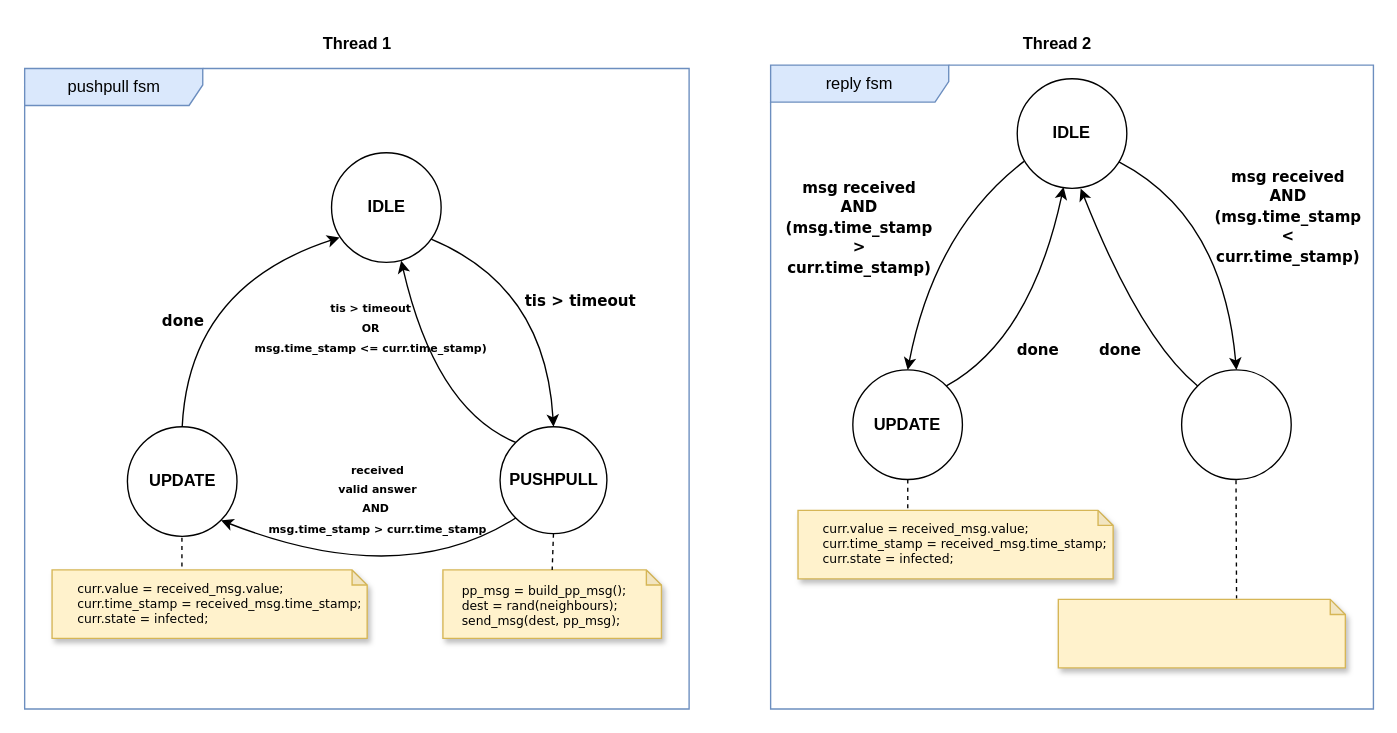
This 1397x733 diagram has some shape labels left out. The shapes that lost their labels are listed below. From the top down, each one's centre as x and y in pixels, then its label:
At point (1235, 424): "REPLY".
At point (1202, 635): "msg = build_data_msg(current.subject); send_msg(received_req.sender, msg);".
